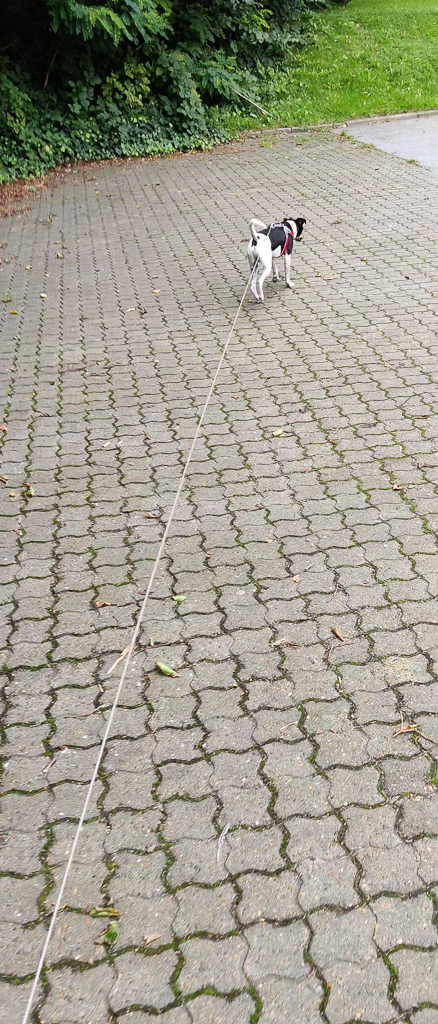Dog: (237, 207, 314, 311)
